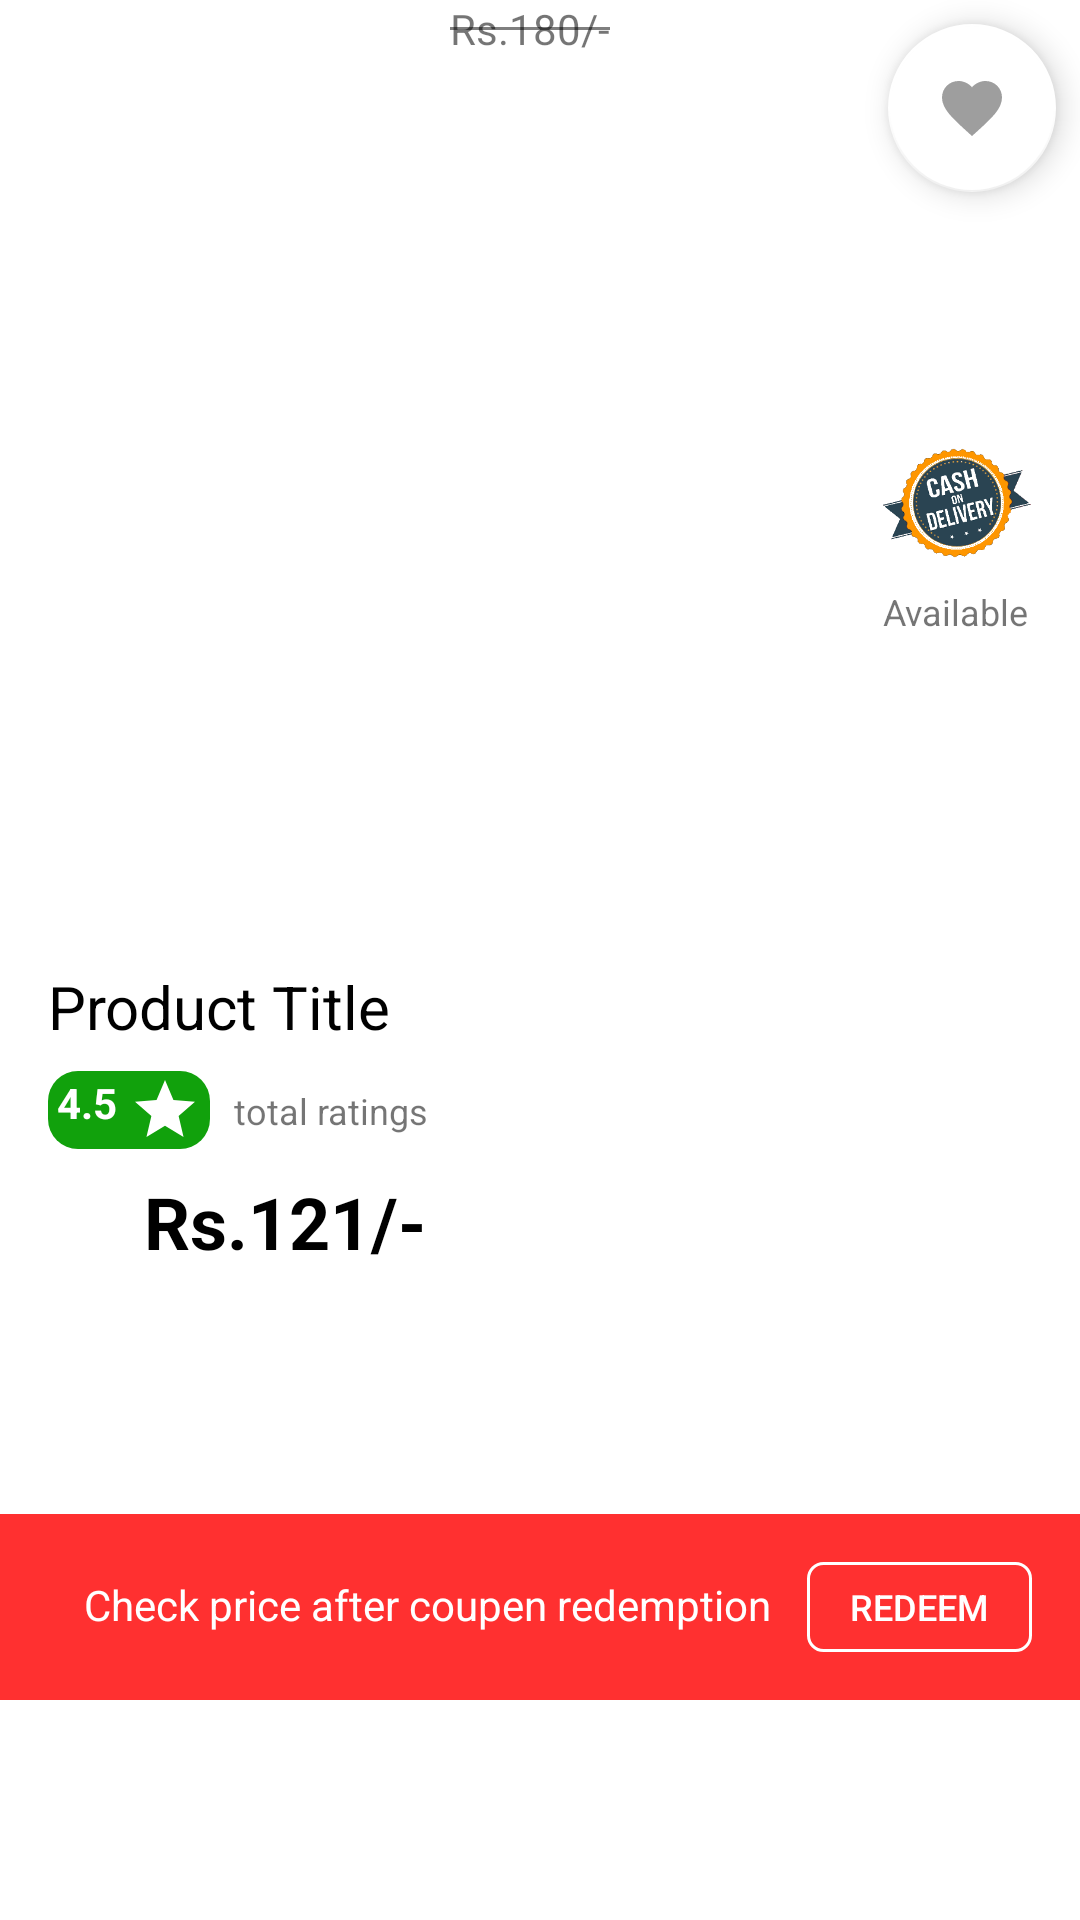

Screen size 1080×1920. Icon name, then its box in pixels as (x1, y1, x2, y2):
like: (942, 34, 1056, 192)
star: (135, 1080, 195, 1137)
